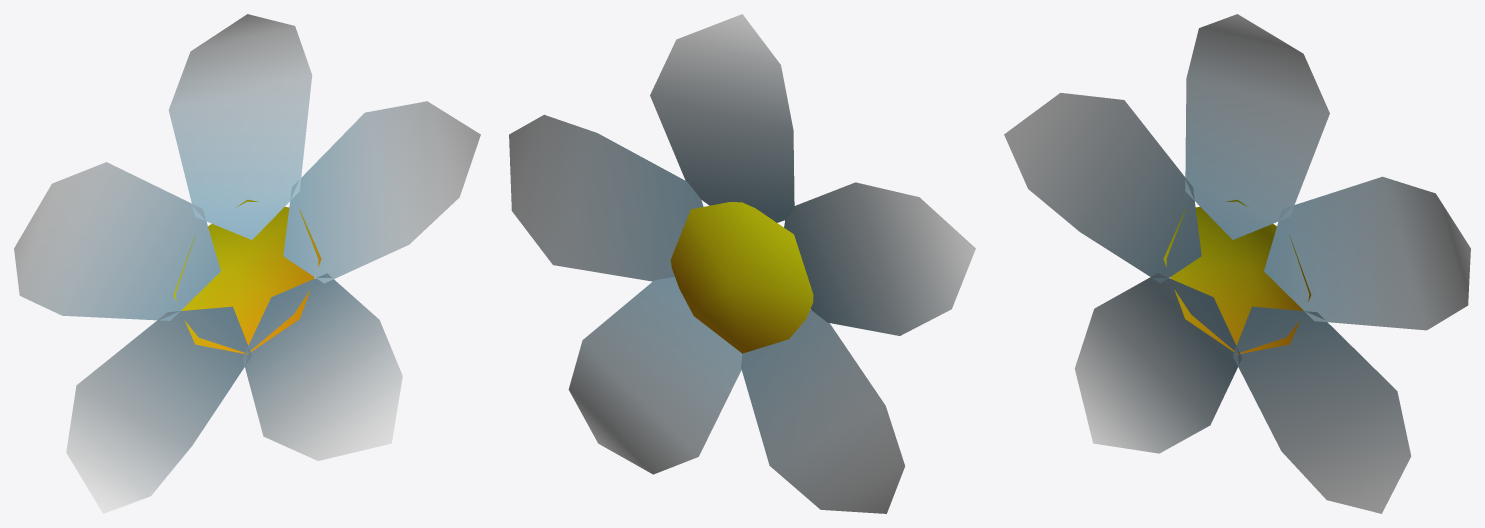
File: flowerno.fbx
3 views of the same model, side by side, from view 1: azimuth 30°, elevation 25°; view 2: azimuth 150°, elevation 25°; view 3: azimuth 330°, elevation 25° (orthographic).
Parts seen in each view (by area): view 1: flowerno; view 2: flowerno; view 3: flowerno.
Part boxes in pixels (left/top/right/bottom): flowerno: left=14, top=14, right=480, bottom=513; flowerno: left=509, top=14, right=975, bottom=513; flowerno: left=1004, top=14, right=1470, bottom=513.
Bounding box in the file's own units: 54.79 × 53.07 × 3.77.
1 material, 1 textured.
